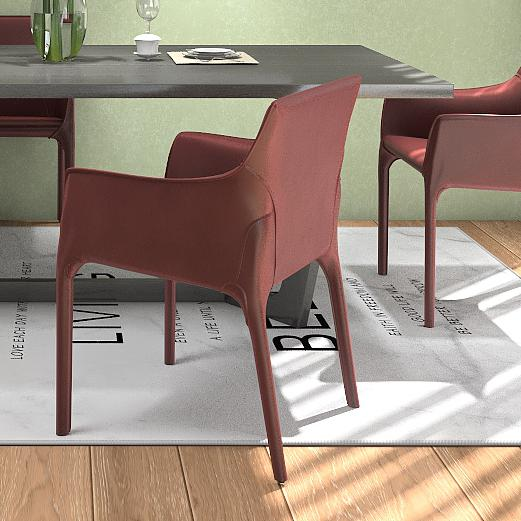table: (1, 42, 454, 325)
